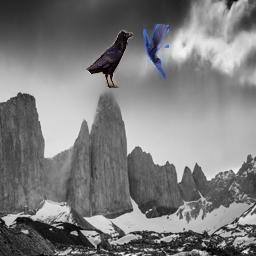Crow: (85, 29, 133, 88)
Swallow: (143, 23, 169, 79)
